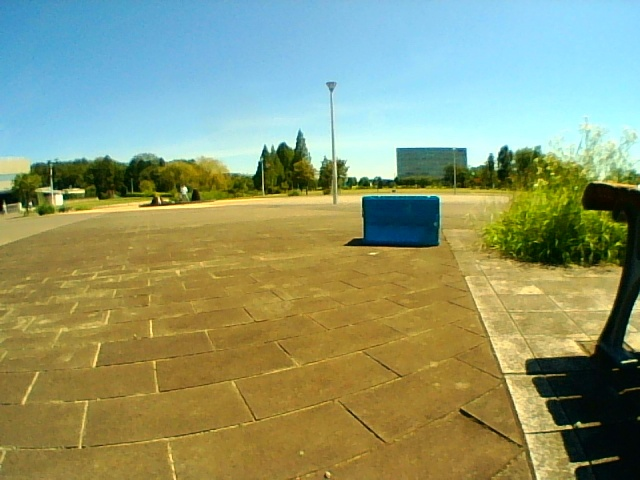blue_box: (363, 196, 438, 244)
